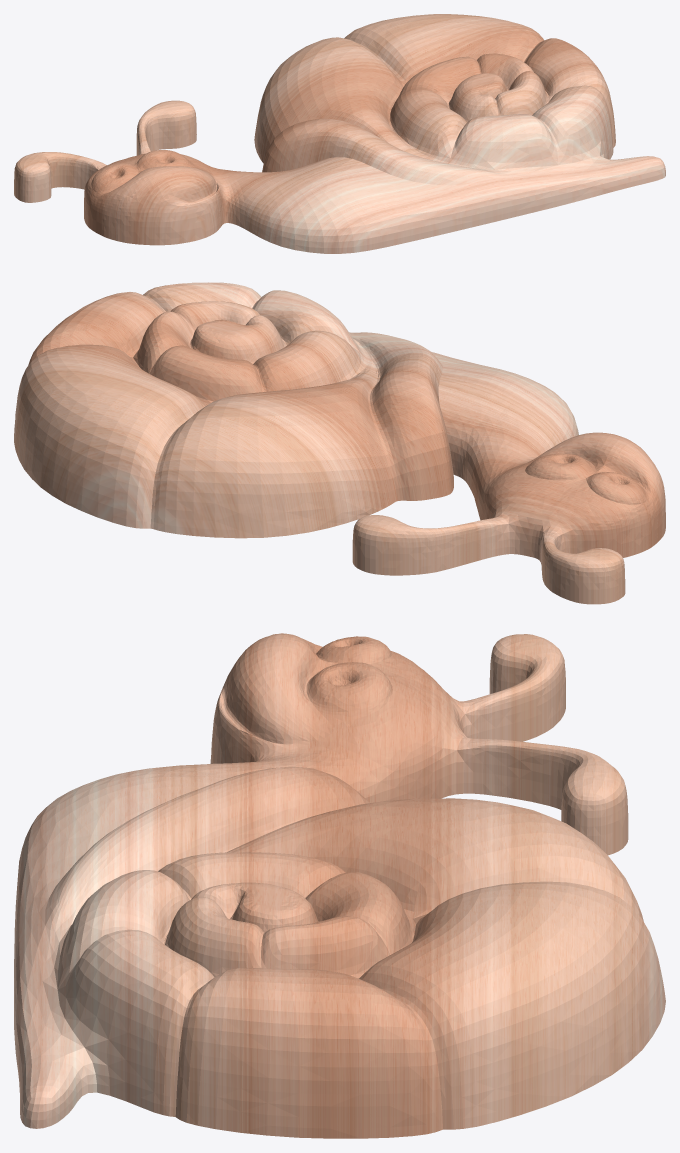
Rendered from snail.glb.
3 renders of one model, top to bottom at view 1: azimuth 30°, elevation 25°; view 2: azimuth 150°, elevation 25°; view 3: azimuth 270°, elevation 25°, orthographic. The views are drawn at different scales.
Visible parts, largest first — view 1: base; view 2: base; view 3: base.
Boxes of the visible parts, x1,y1,x2,y2 form: base: (14, 14, 665, 253); base: (14, 282, 665, 604); base: (14, 633, 665, 1138).
Bounding box in the file's own units: 0.0469 × 0.0067 × 0.0286.
1 material, 1 textured.
